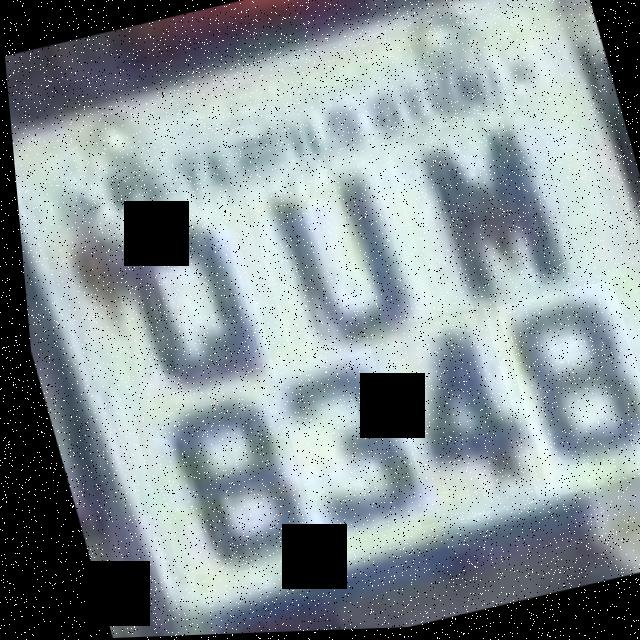3: (224, 331, 441, 558)
4: (358, 305, 543, 532)
8: (116, 362, 315, 587), (476, 283, 640, 506)
M: (394, 110, 584, 334)
O: (89, 185, 273, 412)
U: (233, 139, 438, 374)
